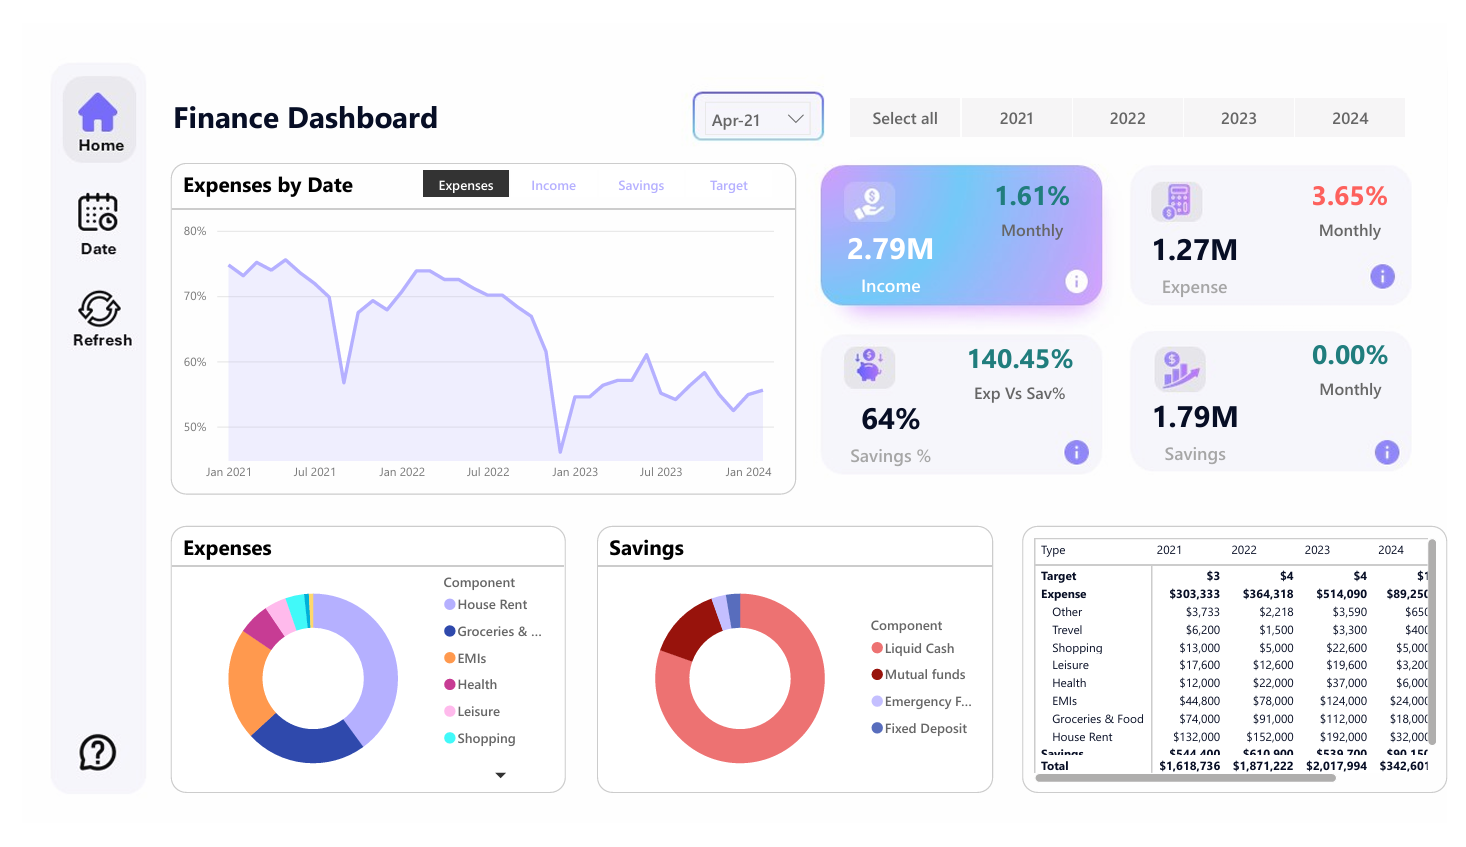

The dashboard page shown, as its layout file describes it:
{"tool":"powerbi","page":{"name":"Page 1","canvas":[1280,720],"ordinal":0},"visuals":[{"type":"card","fields":{"Values":["FinData.Expense"]},"box":[954,159.2,197.8,108.5],"z":2000},{"type":"card","fields":{"Values":["FinData.Savings %"]},"box":[671.8,306.3,215.9,118.2],"z":5000},{"type":"card","fields":{"Values":["FinData.Income"]},"box":[694.7,167.6,170.1,90.5],"z":6000},{"type":"card","fields":{"Values":["FinData.Savings"]},"box":[940.7,305.1,225.5,118.2],"z":7000},{"type":"donutChart","title":"Expenses","fields":{"Category":["FinData.Component"],"Y":["FinData.Expense"]},"box":[132.7,451.1,355.8,240],"z":8000},{"type":"donutChart","title":"Savings","fields":{"Y":["FinData.Savings"],"Category":["FinData.Component"]},"box":[516.2,451.1,355.8,240],"z":9000},{"type":"pivotTable","fields":{"Values":["FinData.Total_Value"],"Rows":["FinData.Type","FinData.Component"],"Columns":["FinData.Year"]},"box":[898.5,451.1,381.1,240],"z":10000},{"type":"areaChart","fields":{"Category":["FinData.Date.Variation.Date Hierarchy.Year","FinData.Date.Variation.Date Hierarchy.Month","FinData.Date.Variation.Date Hierarchy.Day"],"Y":["FinData.Line_Chart_Measures"]},"box":[132.7,125.4,562,297.9],"z":11000},{"type":"slicer","fields":{"Values":["Line_Selection_Table.Type"]},"box":[334.1,125.4,363,37.4],"z":12000},{"type":"textbox","box":[130.3,60.3,652.5,55.5],"z":13000},{"type":"slicer","fields":{"Values":["Selected_Date.Month-Yr"]},"box":[603,60.3,114.6,39.8],"z":15000},{"type":"card","fields":{"Values":["FinData.Expense_Monthly_Gr"]},"box":[1119.2,126.6,147.1,76],"z":16000},{"type":"slicer","fields":{"Values":["FinData.Year"]},"box":[717.6,60.3,548.7,48.2],"z":17000},{"type":"card","fields":{"Values":["FinData.Income_Monthly_Gr"]},"box":[832.2,125.4,149.5,79.6],"z":17001},{"type":"card","fields":{"Values":["FinData.Savings_Monthly_Gr"]},"box":[1110.8,267.7,164,79.6],"z":17002},{"type":"card","fields":{"Values":["FinData.Ex_Vs_Sav"]},"box":[826.1,275,139.9,72.4],"z":17003}]}

Visuals, with their boxes on the page's 1280x720 design canvas (x1, y1, x2, y2). These are canvas units, not pixel positions in the 1466x847 screenshot, which may show the page scaled, cropped or inside an application window:
card - FinData.Expense: bbox=(954, 159, 1152, 268)
card - FinData.Savings %: bbox=(672, 306, 888, 424)
card - FinData.Income: bbox=(695, 168, 865, 258)
card - FinData.Savings: bbox=(941, 305, 1166, 423)
"Expenses" donutChart: bbox=(133, 451, 488, 691)
"Savings" donutChart: bbox=(516, 451, 872, 691)
pivotTable - FinData.Total_Value x FinData.Type: bbox=(898, 451, 1280, 691)
areaChart - FinData.Date.Variation.Date Hierarchy.Year x FinData.Date.Variation.Date Hierarchy.Month: bbox=(133, 125, 695, 423)
slicer - Line_Selection_Table.Type: bbox=(334, 125, 697, 163)
textbox: bbox=(130, 60, 783, 116)
slicer - Selected_Date.Month-Yr: bbox=(603, 60, 718, 100)
card - FinData.Expense_Monthly_Gr: bbox=(1119, 127, 1266, 203)
slicer - FinData.Year: bbox=(718, 60, 1266, 108)
card - FinData.Income_Monthly_Gr: bbox=(832, 125, 982, 205)
card - FinData.Savings_Monthly_Gr: bbox=(1111, 268, 1275, 347)
card - FinData.Ex_Vs_Sav: bbox=(826, 275, 966, 347)
